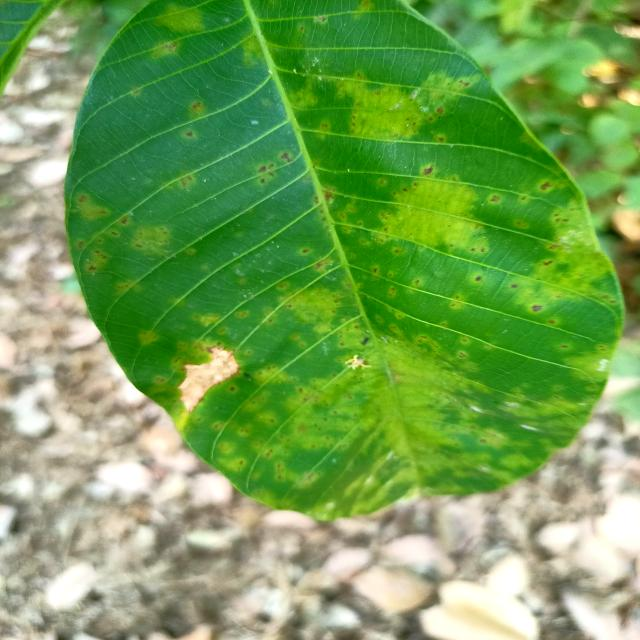Leaf-Blight: (177, 346, 239, 412)
